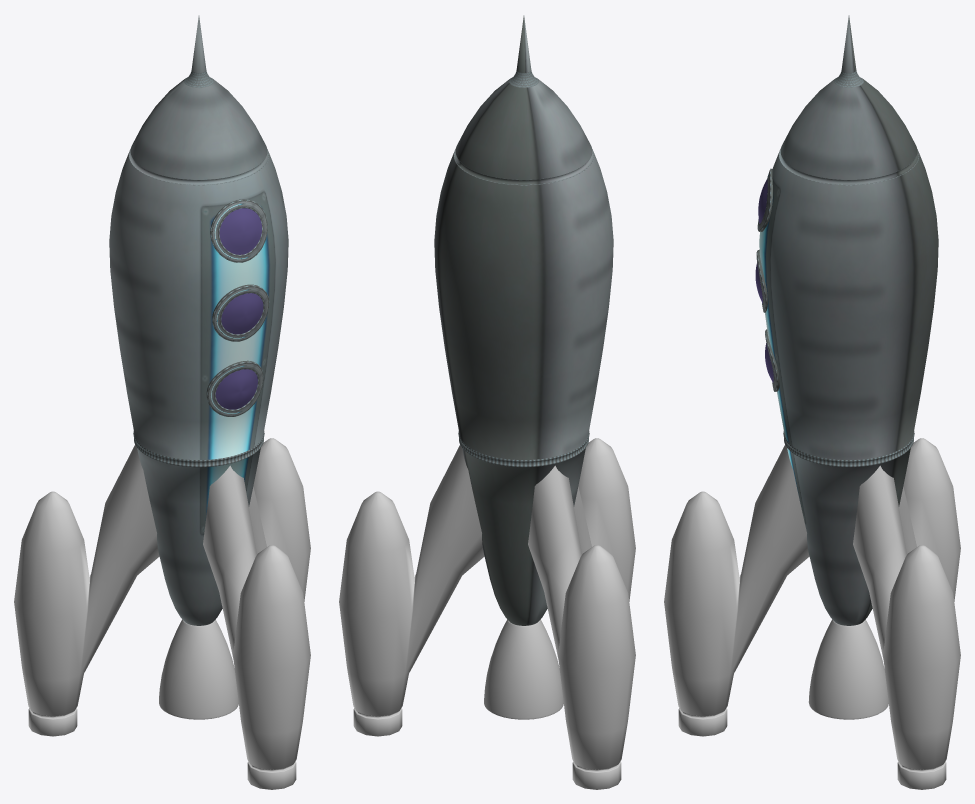
Rendered from ExRocketDL.FBX.
The picture shows the model from 3 angles, left to right: view 1: azimuth 30°, elevation 25°; view 2: azimuth 150°, elevation 25°; view 3: azimuth 270°, elevation 25°; orthographic projection.
Visible parts, largest first — view 1: rocket_body, small_engine.2, small_engine, main_engine, small_engine.3, window glass, windows; view 2: rocket_body, small_engine.3, small_engine.2, main_engine, small_engine; view 3: rocket_body, small_engine, small_engine.3, main_engine, small_engine.2, windows, window glass.
Boxes of the visible parts, x1,y1,x2,y2 form: rocket_body: (109, 15, 288, 625); small_engine.2: (14, 445, 159, 736); small_engine: (203, 465, 310, 789); main_engine: (159, 619, 238, 719); small_engine.3: (249, 438, 310, 601); window glass: (215, 208, 263, 409); windows: (206, 199, 269, 416); rocket_body: (434, 15, 613, 625); small_engine.3: (339, 445, 484, 736); small_engine.2: (528, 465, 635, 789); main_engine: (484, 619, 563, 719); small_engine: (574, 438, 635, 601); rocket_body: (759, 15, 938, 625); small_engine: (664, 445, 809, 736); small_engine.3: (853, 465, 960, 789); main_engine: (808, 619, 888, 719); small_engine.2: (899, 438, 960, 601); windows: (756, 168, 779, 391); window glass: (755, 179, 773, 382).
Bounding box in the file's own units: 202 × 181 × 480.
